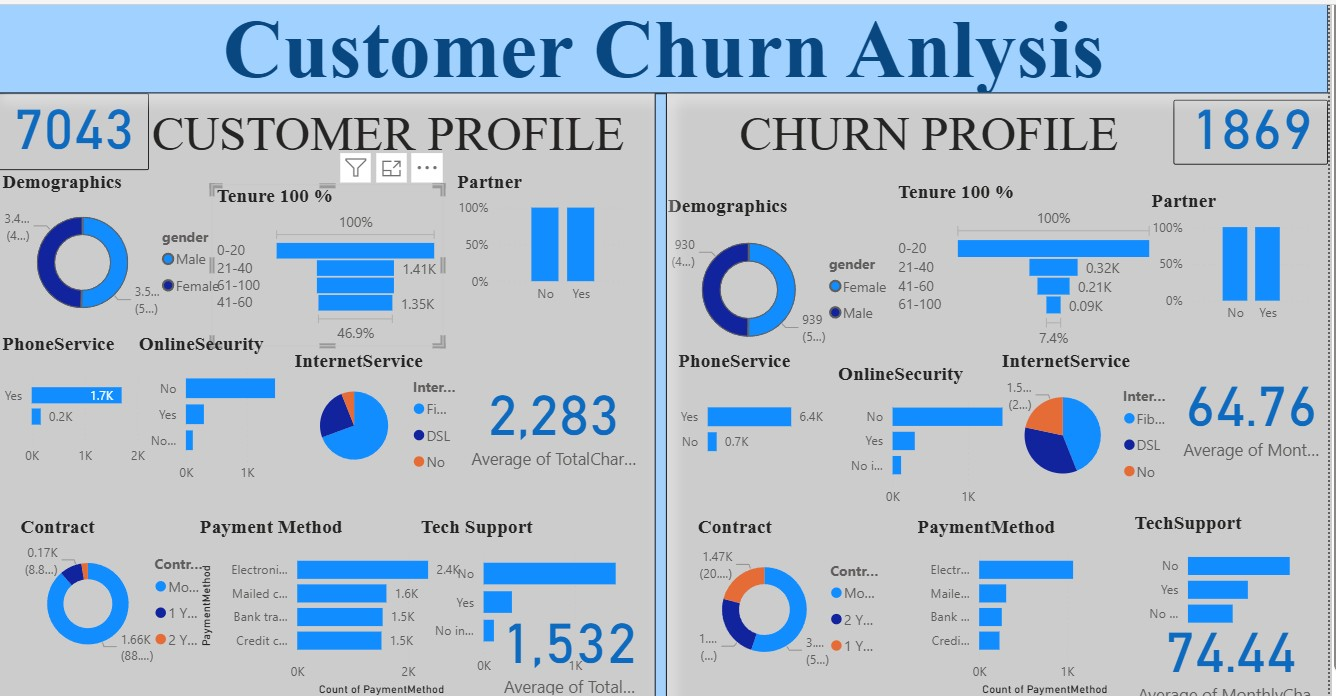

The dashboard page shown, as its layout file describes it:
{"tool":"powerbi","page":{"name":"Summary","canvas":[1280,720],"ordinal":1},"visuals":[{"type":"card","fields":{"Values":["CountNonNull(Telco-Churn-Analysis.Churn)"]},"box":[0,113.8,146.2,73.8],"z":0},{"type":"card","fields":{"Values":["CountNonNull(Churned_Data.Churn)"]},"box":[1131.2,120,148.8,62.5],"z":1000},{"type":"donutChart","title":"Demographics","fields":{"Y":["CountNonNull(Telco-Churn-Analysis.gender)"],"Category":["Telco-Churn-Analysis.gender"]},"box":[0,187.5,235,137.5],"z":2000},{"type":"donutChart","title":"Demographics","fields":{"Y":["CountNonNull(Churned_Data.gender)"],"Category":["Churned_Data.gender"]},"box":[650,197.5,230,161.2],"z":3000},{"type":"funnel","title":"Tenure 100 %","fields":{"Y":["CountNonNull(Telco-Churn-Analysis.Tenure_Bin)"],"Category":["Telco-Churn-Analysis.Tenure_Bin"]},"box":[213.8,187.5,223.8,156.2],"z":4000},{"type":"funnel","title":"Tenure 100 %","fields":{"Y":["CountNonNull(Churned_Data.Tenure_Bin)"],"Category":["Churned_Data.Tenure_Bin"]},"box":[861.2,197.5,256.2,163.8],"z":5000},{"type":"hundredPercentStackedColumnChart","title":" Partner","fields":{"Category":["Telco-Churn-Analysis.Partner"],"Y":["CountNonNull(Telco-Churn-Analysis.Partner)"]},"box":[1105,206.2,162.5,137.5],"z":6000},{"type":"hundredPercentStackedColumnChart","title":"Partner ","fields":{"Category":["Churned_Data.Partner"],"Y":["Count(Churned_Data.Partner)"]},"box":[437.5,187.5,173.8,137.5],"z":7000},{"type":"clusteredBarChart","title":"PhoneService","fields":{"Y":["CountNonNull(Telco-Churn-Analysis.PhoneService)"],"Category":["Telco-Churn-Analysis.PhoneService"]},"box":[650,360,151.2,125],"z":8000},{"type":"clusteredBarChart","title":"PhoneService","fields":{"Y":["CountNonNull(Churned_Data.PhoneService)"],"Category":["Churned_Data.PhoneService"]},"box":[0,343.8,158.8,137.5],"z":9000},{"type":"pieChart","title":" InternetService ","fields":{"Y":["CountNonNull(Churned_Data.InternetService)"],"Category":["Churned_Data.InternetService"]},"box":[281.2,360,172.5,125],"z":10000},{"type":"pieChart","title":"InternetService","fields":{"Y":["CountNonNull(Telco-Churn-Analysis.InternetService)"],"Category":["Telco-Churn-Analysis.InternetService"]},"box":[961.2,360,176.2,143.8],"z":11000},{"type":"clusteredBarChart","title":"OnlineSecurity","fields":{"Category":["Churned_Data.OnlineSecurity"],"Y":["CountNonNull(Churned_Data.OnlineSecurity)"]},"box":[131.2,343.8,150,153.8],"z":12000},{"type":"clusteredBarChart","title":" OnlineSecurity ","fields":{"Category":["Churned_Data.OnlineSecurity"],"Y":["CountNonNull(Churned_Data.OnlineSecurity)"]},"box":[803.8,372.5,177.5,147.5],"z":13000},{"type":"donutChart","title":"Contract","fields":{"Y":["CountNonNull(Churned_Data.Contract)"],"Category":["Churned_Data.Contract"]},"box":[17.5,495,195,147.5],"z":14000},{"type":"donutChart","title":"Contract ","fields":{"Y":["CountNonNull(Telco-Churn-Analysis.Contract)"],"Category":["Telco-Churn-Analysis.Contract"]},"box":[668.8,520,192.5,158.8],"z":15000},{"type":"clusteredBarChart","title":" Payment Method","fields":{"Y":["CountNonNull(Telco-Churn-Analysis.PaymentMethod)"],"Category":["Telco-Churn-Analysis.PaymentMethod"]},"box":[190,495,272.5,177.5],"z":16000},{"type":"clusteredBarChart","title":"PaymentMethod","fields":{"Y":["CountNonNull(Churned_Data.PaymentMethod)"],"Category":["Churned_Data.PaymentMethod"]},"box":[880,520,202.5,177.5],"z":17000},{"type":"clusteredBarChart","title":"TechSupport ","fields":{"Category":["Telco-Churn-Analysis.TechSupport"],"Y":["CountNonNull(Telco-Churn-Analysis.TechSupport)"]},"box":[1088.8,516.2,173.8,121.2],"z":18000},{"type":"clusteredBarChart","title":" Tech Support","fields":{"Category":["Churned_Data.TechSupport"],"Y":["CountNonNull(Churned_Data.TechSupport)"]},"box":[413.8,485,208.8,162.5],"z":19000},{"type":"textbox","title":"      Customer Churn Anlysis ","box":[0,23.8,1280,90],"z":20000},{"type":"card","fields":{"Values":["Avg(Telco-Churn-Analysis.TotalCharges)"]},"box":[457.5,612.5,175,107.5],"z":21000},{"type":"card","title":"Total  Avg","fields":{"Values":["Avg(Telco-Churn-Analysis.MonthlyCharges)"]},"box":[477.5,372.5,145,85],"z":22000},{"type":"card","fields":{"Values":["Avg(Churned_Data.TotalCharges)"]},"box":[1120,616.2,160,103.8],"z":23000},{"type":"card","title":"   Montly charges avg","fields":{"Values":["Avg(Churned_Data.MonthlyCharges)"]},"box":[1137.5,372.5,142.5,102.5],"z":24000},{"type":"textbox","title":"CUSTOMER PROFILE","box":[143.8,126.2,467.5,80],"z":25000},{"type":"textbox","title":"CHURN PROFILE","box":[708.8,126.2,467.5,80],"z":26000},{"type":"textbox","box":[632.5,113.8,7.5,606.2],"z":27000},{"type":"actionButton","box":[17.5,48.8,47.5,41.2],"z":28000},{"type":"actionButton","box":[1222.5,50,40,41.2],"z":29000}]}

Visuals, with their boxes on the page's 1280x720 design canvas (x1, y1, x2, y2). These are canvas units, not pixel positions in the 1336x696 screenshot, which may show the page scaled, cropped or inside an application window:
card - CountNonNull(Telco-Churn-Analysis.Churn): [left=0, top=114, right=146, bottom=188]
card - CountNonNull(Churned_Data.Churn): [left=1131, top=120, right=1280, bottom=182]
"Demographics" donutChart: [left=0, top=188, right=235, bottom=325]
"Demographics" donutChart: [left=650, top=198, right=880, bottom=359]
"Tenure 100 %" funnel: [left=214, top=188, right=438, bottom=344]
"Tenure 100 %" funnel: [left=861, top=198, right=1117, bottom=361]
" Partner" hundredPercentStackedColumnChart: [left=1105, top=206, right=1268, bottom=344]
"Partner " hundredPercentStackedColumnChart: [left=438, top=188, right=611, bottom=325]
"PhoneService" clusteredBarChart: [left=650, top=360, right=801, bottom=485]
"PhoneService" clusteredBarChart: [left=0, top=344, right=159, bottom=481]
" InternetService " pieChart: [left=281, top=360, right=454, bottom=485]
"InternetService" pieChart: [left=961, top=360, right=1137, bottom=504]
"OnlineSecurity" clusteredBarChart: [left=131, top=344, right=281, bottom=498]
" OnlineSecurity " clusteredBarChart: [left=804, top=372, right=981, bottom=520]
"Contract" donutChart: [left=18, top=495, right=212, bottom=642]
"Contract " donutChart: [left=669, top=520, right=861, bottom=679]
" Payment Method" clusteredBarChart: [left=190, top=495, right=462, bottom=672]
"PaymentMethod" clusteredBarChart: [left=880, top=520, right=1082, bottom=698]
"TechSupport " clusteredBarChart: [left=1089, top=516, right=1263, bottom=637]
" Tech Support" clusteredBarChart: [left=414, top=485, right=623, bottom=648]
"      Customer Churn Anlysis " textbox: [left=0, top=24, right=1280, bottom=114]
card - Avg(Telco-Churn-Analysis.TotalCharges): [left=458, top=612, right=632, bottom=720]
"Total  Avg" card: [left=478, top=372, right=622, bottom=458]
card - Avg(Churned_Data.TotalCharges): [left=1120, top=616, right=1280, bottom=720]
"   Montly charges avg" card: [left=1138, top=372, right=1280, bottom=475]
"CUSTOMER PROFILE" textbox: [left=144, top=126, right=611, bottom=206]
"CHURN PROFILE" textbox: [left=709, top=126, right=1176, bottom=206]
textbox: [left=632, top=114, right=640, bottom=720]
actionButton: [left=18, top=49, right=65, bottom=90]
actionButton: [left=1222, top=50, right=1262, bottom=91]
